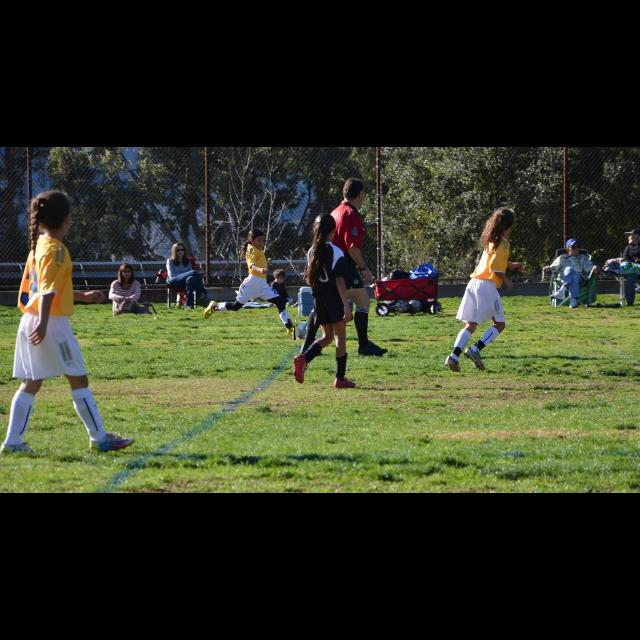Football: (294, 320, 306, 340)
